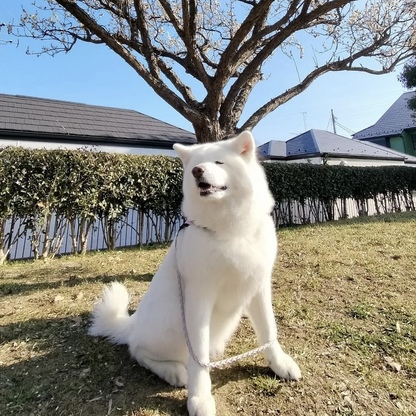akita: (85, 126, 308, 416)
